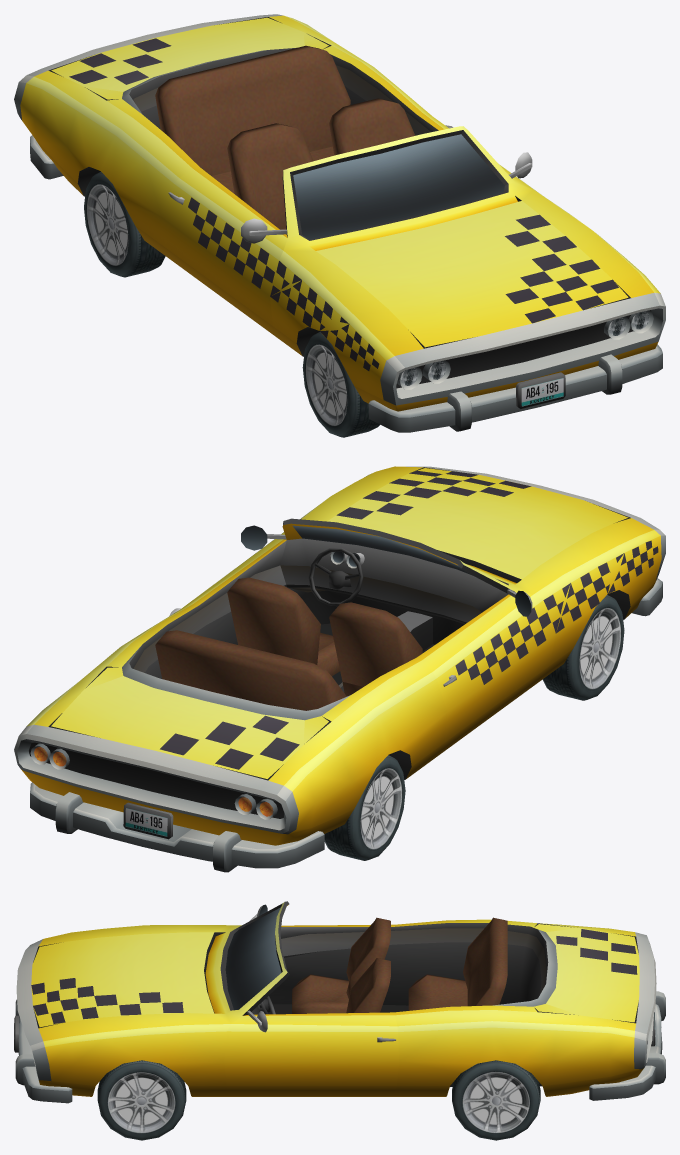
The model's file is VHC0110008.FBX.
The picture shows the model from 3 angles, top to bottom: view 1: azimuth 30°, elevation 25°; view 2: azimuth 150°, elevation 25°; view 3: azimuth 270°, elevation 25°; orthographic projection. The views are drawn at different scales.
Parts seen in each view (by area): view 1: smVHC0110008; view 2: smVHC0110008; view 3: smVHC0110008.
Part boxes in pixels (x1,y1,x2,y2): smVHC0110008: (14,14,665,437); smVHC0110008: (14,466,665,872); smVHC0110008: (14,901,665,1140).
Size of the model in its own units: 1.62 by 1.05 by 3.9.
Materials: 1 (1 with a texture image).
